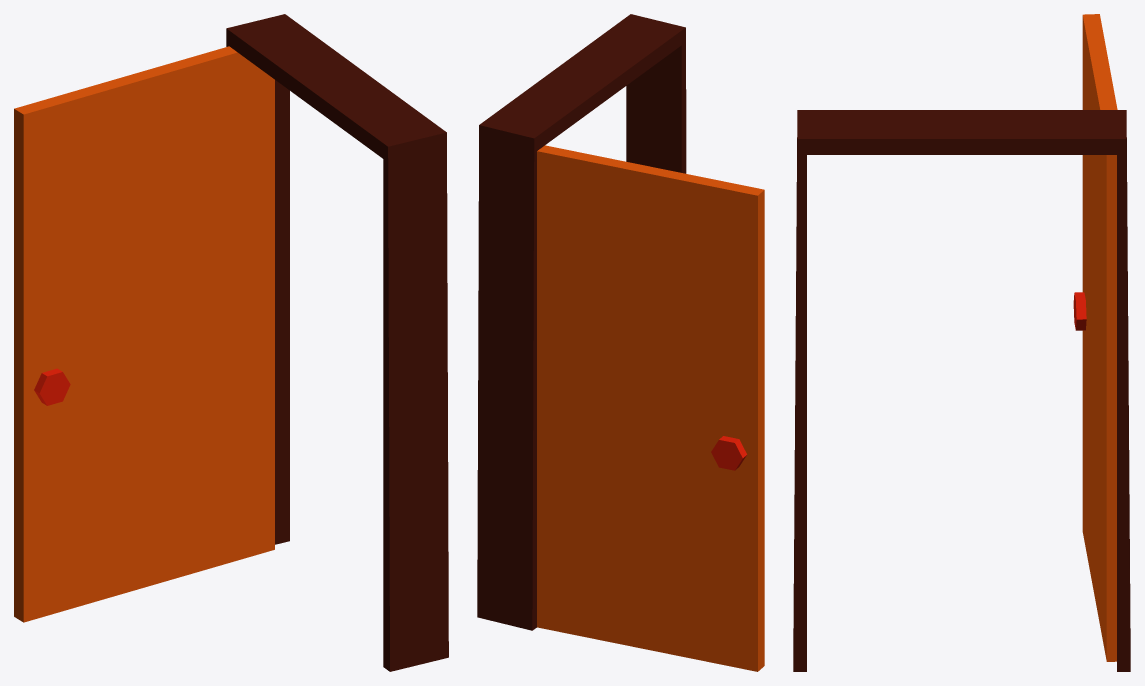
The model's file is door.fbx.
The picture shows the model from 3 angles, left to right: view 1: azimuth 30°, elevation 25°; view 2: azimuth 150°, elevation 25°; view 3: azimuth 270°, elevation 25°; orthographic projection. The views are drawn at different scales.
Parts seen in each view (by area): view 1: Cylinder, Cube; view 2: Cylinder, Cube; view 3: Cube, Cylinder.
Boxes of the visible parts, left/top/right/bottom form: Cylinder: left=14, top=46, right=274, bottom=622; Cube: left=226, top=14, right=448, bottom=671; Cylinder: left=537, top=145, right=764, bottom=671; Cube: left=477, top=14, right=686, bottom=630; Cube: left=793, top=110, right=1130, bottom=671; Cylinder: left=1073, top=14, right=1117, bottom=661.
Bounding box in the file's own units: 342 × 602 × 345.
